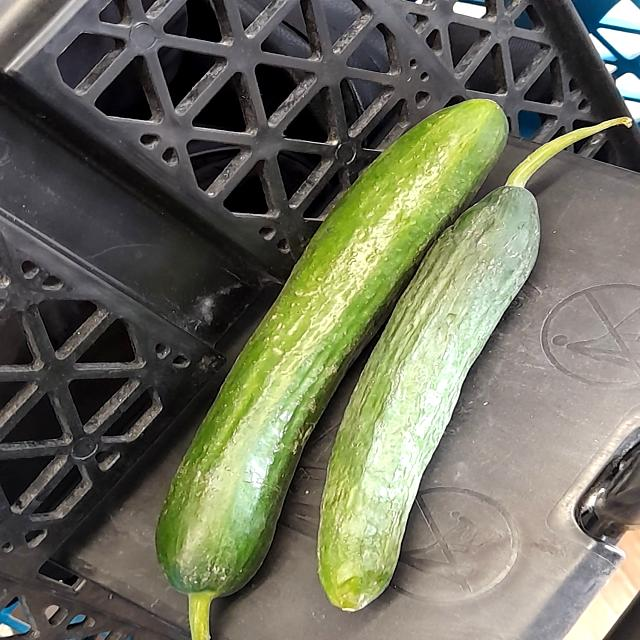cucumber: (150, 83, 520, 639), (306, 111, 630, 614)
